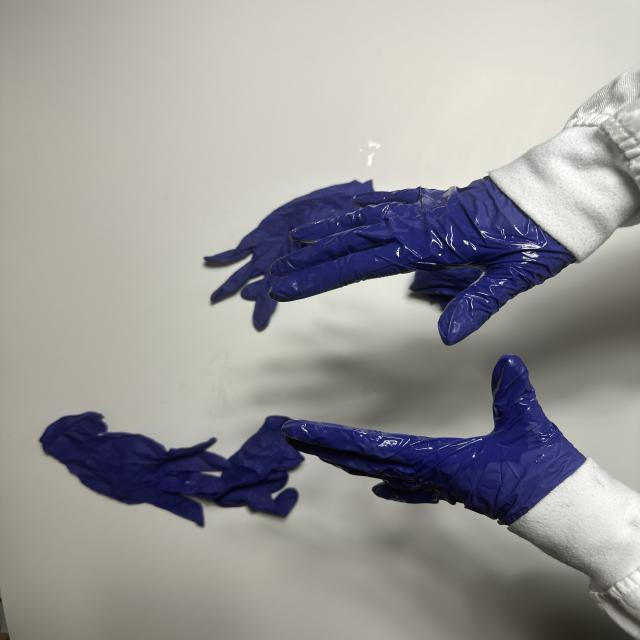gloves_contaminated: (284, 355, 586, 524), (270, 178, 574, 345)
